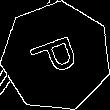P_E: (26, 30, 86, 83)
